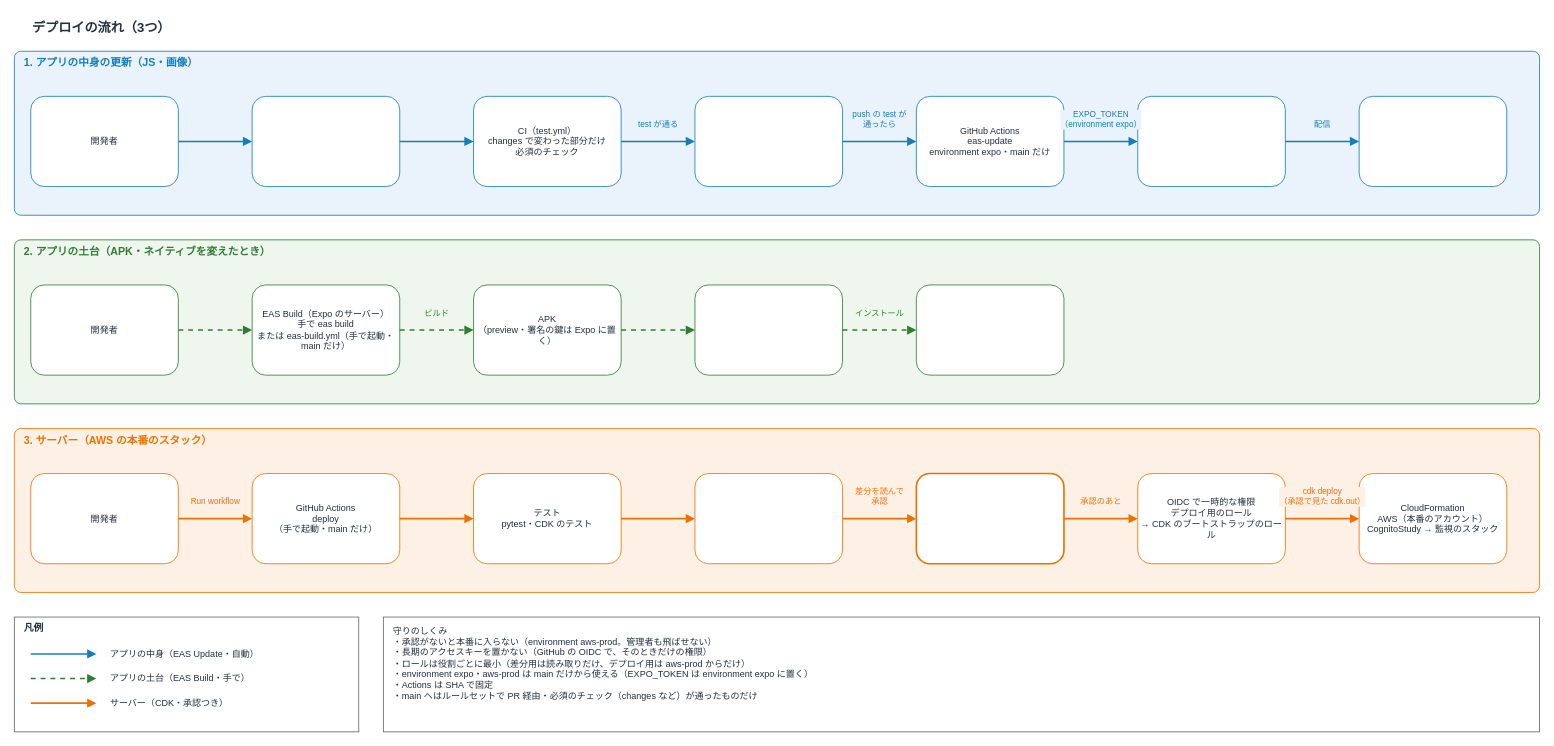
Some shapes in this 1554 by 746 pixel diagram are drawn without their labels. Each missing label, with the box of its shape:
cdk diff 差分用のロール （読み取りだけ）: (694, 473, 843, 564)
Expo の EAS Update チャンネル preview: (1137, 96, 1285, 187)
main にマージ （ルールセット）: (694, 96, 843, 187)
Pixel に入れる （上書きで記録は残る）: (916, 284, 1064, 375)
Pixel のアプリ 開いたときに受け取り 次に開いたときに切り替わる （runtimeVersion が合うものだけ）: (1358, 96, 1507, 187)
PR: (251, 96, 400, 187)
QR コード・URL からダウンロード: (694, 284, 843, 375)
本人の承認 environment aws-prod: (915, 472, 1064, 564)
